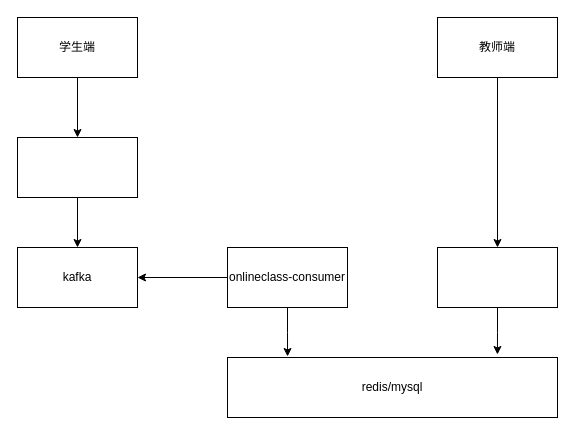
Image size: 575x435. Some labels were removed from this diagram. The shapes that lost their labels are listed below. From the top down, each one's centre as x and y in pixels, then its label:
At point (77, 167): "heartbeat-service".
At point (497, 277): "onlineclass-service".
